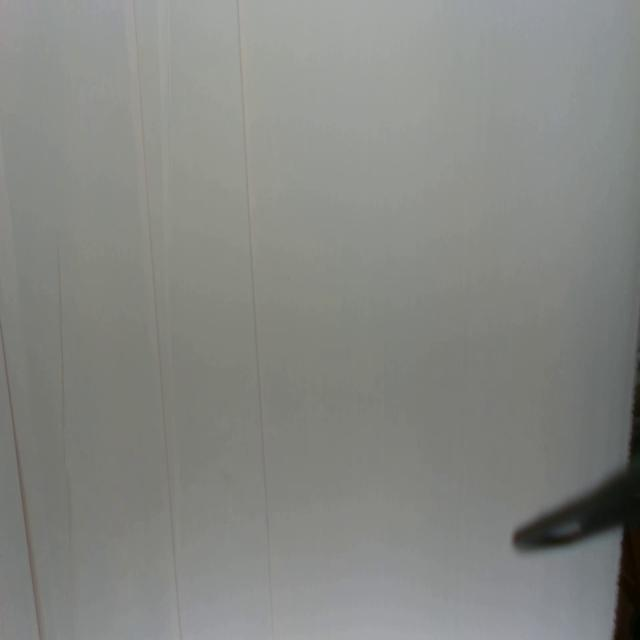crease: (132, 0, 183, 639), (236, 0, 276, 640), (0, 324, 43, 640), (56, 243, 74, 556), (161, 0, 174, 189)
